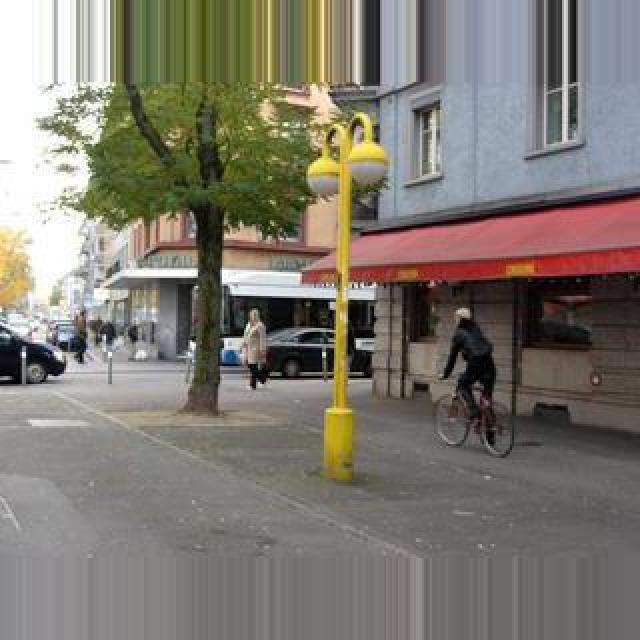Bus-Bike: (264, 326, 366, 378), (0, 326, 66, 384)
MC-Bike: (440, 310, 498, 438), (240, 308, 270, 392), (74, 312, 88, 366), (100, 320, 116, 358)
Person: (435, 376, 513, 456)
